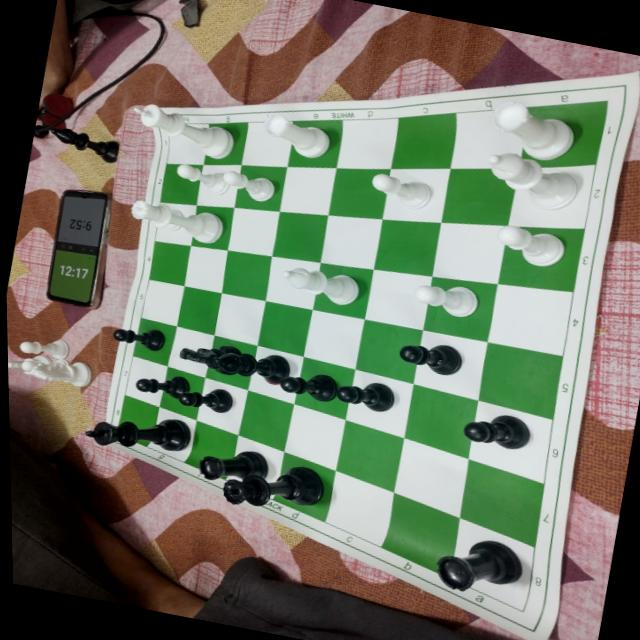board: (92, 72, 639, 640)
square: (450, 518, 534, 612), (459, 459, 544, 548), (468, 401, 552, 484), (380, 493, 458, 578), (477, 343, 562, 420), (487, 284, 572, 356), (393, 438, 468, 518), (518, 101, 607, 168), (497, 226, 583, 292), (507, 165, 595, 229), (403, 384, 477, 459), (324, 471, 393, 547), (413, 330, 487, 400), (335, 420, 403, 493), (422, 277, 497, 342), (344, 369, 413, 438), (431, 223, 507, 284), (440, 167, 518, 226), (450, 108, 526, 168), (272, 452, 335, 522), (354, 320, 422, 384), (283, 404, 345, 471), (364, 270, 432, 330), (293, 357, 355, 420), (224, 435, 284, 500), (373, 219, 440, 277), (382, 168, 450, 223), (389, 113, 455, 169), (303, 310, 364, 369), (237, 390, 293, 452), (312, 263, 373, 319), (320, 215, 382, 270), (183, 420, 238, 480), (247, 346, 303, 404), (328, 168, 390, 220), (335, 118, 397, 169), (256, 301, 312, 357), (265, 256, 320, 310), (196, 377, 247, 435), (271, 212, 327, 263), (146, 407, 196, 463), (213, 293, 265, 346), (205, 336, 256, 390), (279, 167, 336, 215), (286, 120, 342, 168), (227, 207, 279, 257), (158, 366, 205, 421), (221, 250, 271, 301), (233, 165, 287, 211), (167, 326, 213, 378), (241, 121, 292, 167), (115, 395, 158, 447), (176, 286, 221, 335), (124, 356, 167, 407), (183, 246, 227, 293), (132, 318, 175, 366), (190, 205, 234, 250), (140, 280, 183, 326), (195, 165, 240, 208), (203, 122, 247, 165), (148, 241, 190, 286), (154, 202, 196, 246), (159, 164, 203, 206), (165, 123, 208, 165)
